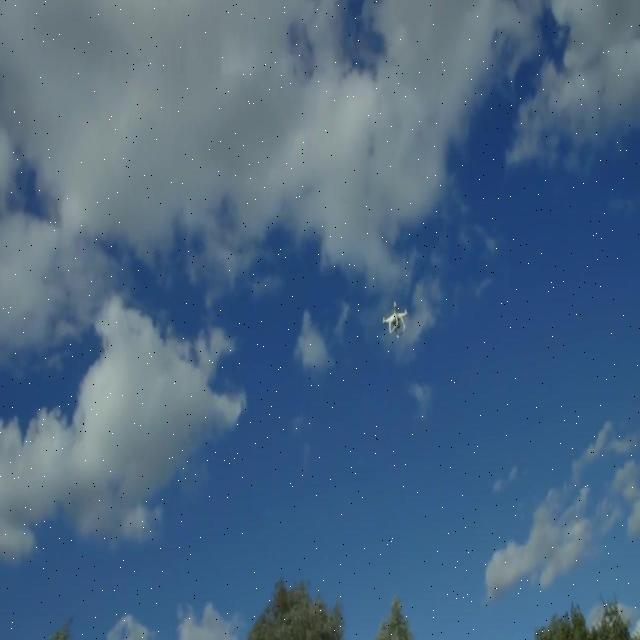UAV: (382, 301, 408, 338)
